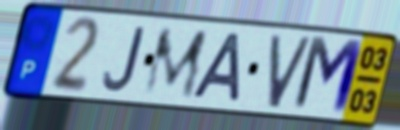2: (48, 14, 102, 94)
A: (188, 31, 244, 106)
J: (101, 25, 146, 94)
M: (288, 33, 367, 119), (139, 27, 211, 101)
V: (265, 32, 316, 111)
